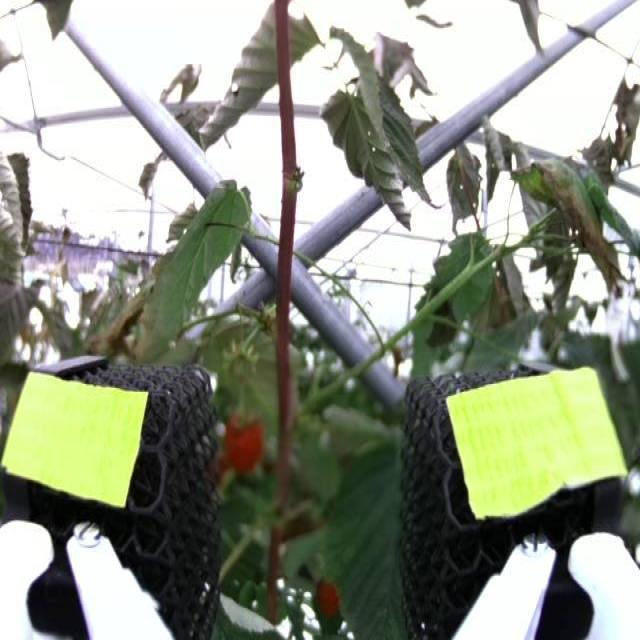Riped berries: (219, 408, 269, 472), (313, 573, 348, 618)
